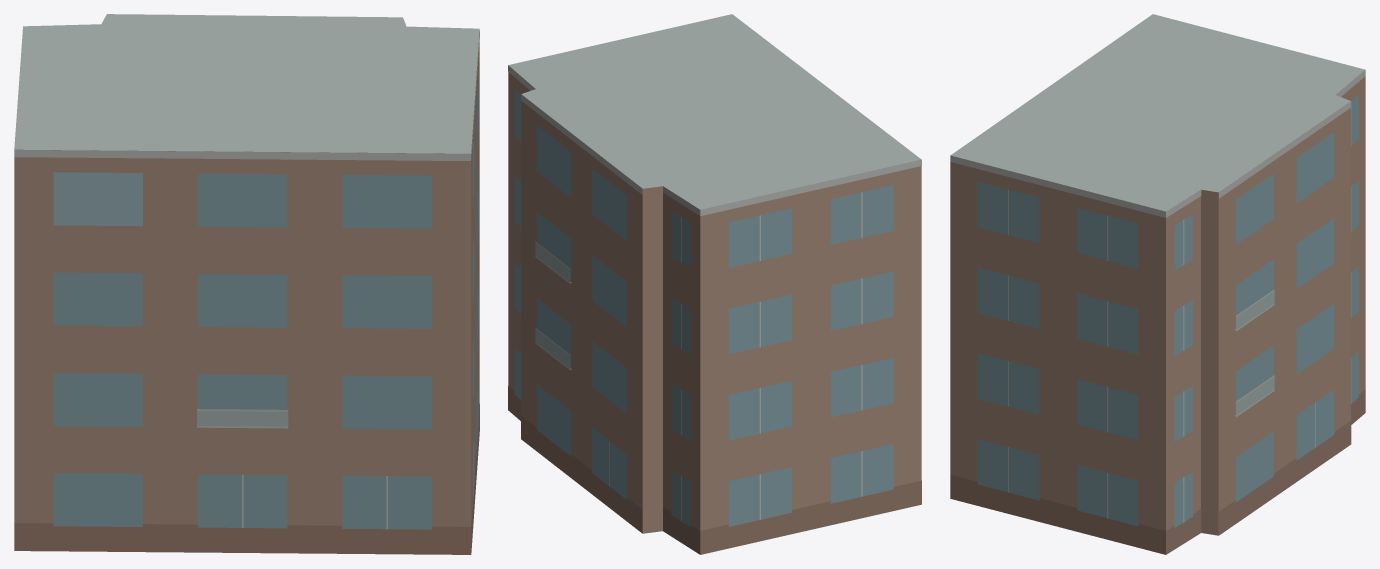
Rendered from survey-upis-32812921.glb.
The picture shows the model from 3 angles, left to right: view 1: azimuth 30°, elevation 25°; view 2: azimuth 150°, elevation 25°; view 3: azimuth 270°, elevation 25°; orthographic projection. The views are drawn at different scales.
Visible parts, largest first — view 1: survey-upis-32812921.tmp; view 2: survey-upis-32812921.tmp; view 3: survey-upis-32812921.tmp.
Part boxes in pixels (box(x1,y1,x2,y2)): survey-upis-32812921.tmp: box(14, 14, 479, 554); survey-upis-32812921.tmp: box(508, 14, 921, 554); survey-upis-32812921.tmp: box(950, 14, 1365, 554).
Size of the model in its own units: 16.18 by 13.1 by 14.37.
